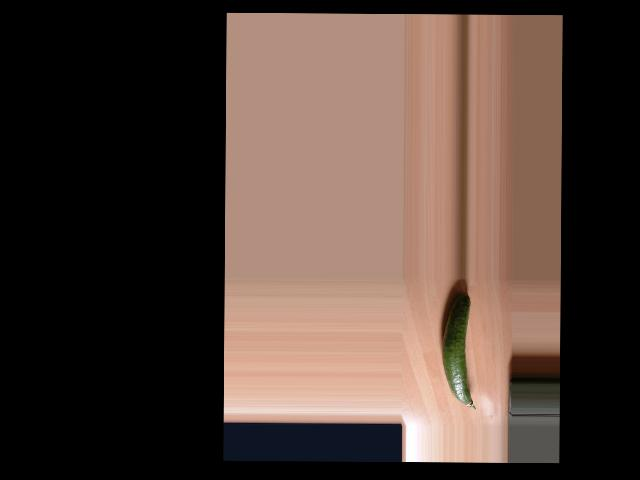cucumber: (440, 291, 476, 410)
